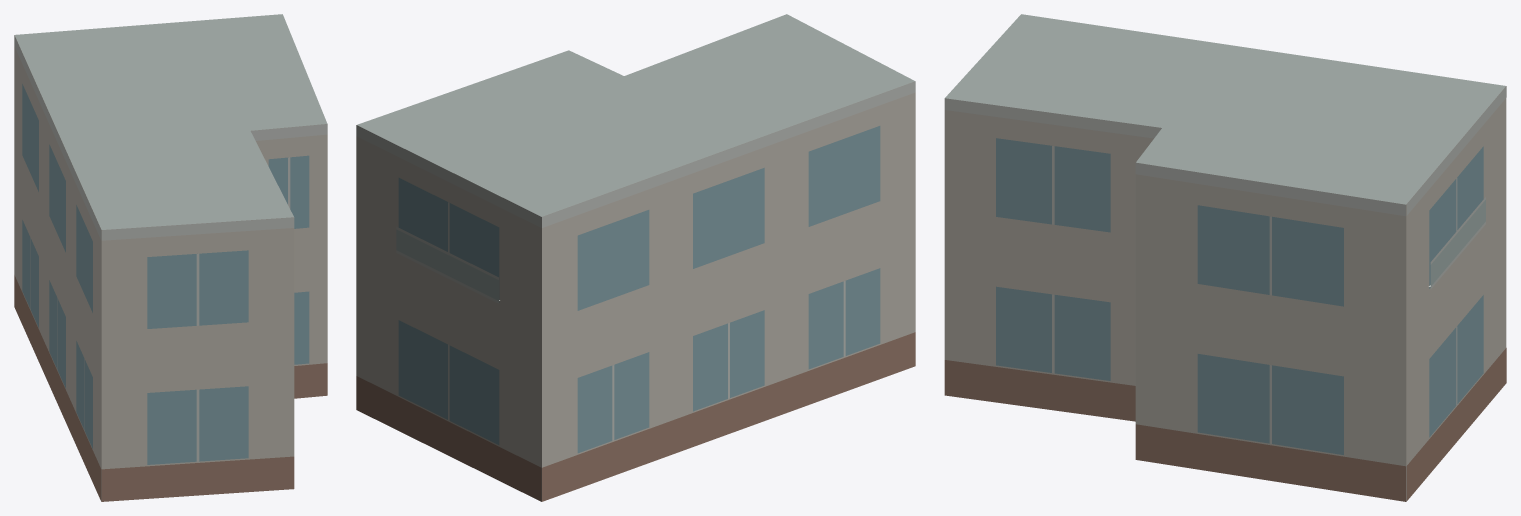
Rendered from survey-upis-32513291.glb.
3 renders of one model, left to right at view 1: azimuth 30°, elevation 25°; view 2: azimuth 150°, elevation 25°; view 3: azimuth 270°, elevation 25°, orthographic. The views are drawn at different scales.
Parts seen in each view (by area): view 1: survey-upis-32513291.tmp; view 2: survey-upis-32513291.tmp; view 3: survey-upis-32513291.tmp.
Boxes of the visible parts, left/top/right/bottom form: survey-upis-32513291.tmp: left=14, top=14, right=327, bottom=501; survey-upis-32513291.tmp: left=356, top=14, right=915, bottom=501; survey-upis-32513291.tmp: left=944, top=14, right=1506, bottom=501.
Size of the model in its own units: 8.54 by 6.2 by 10.63.
